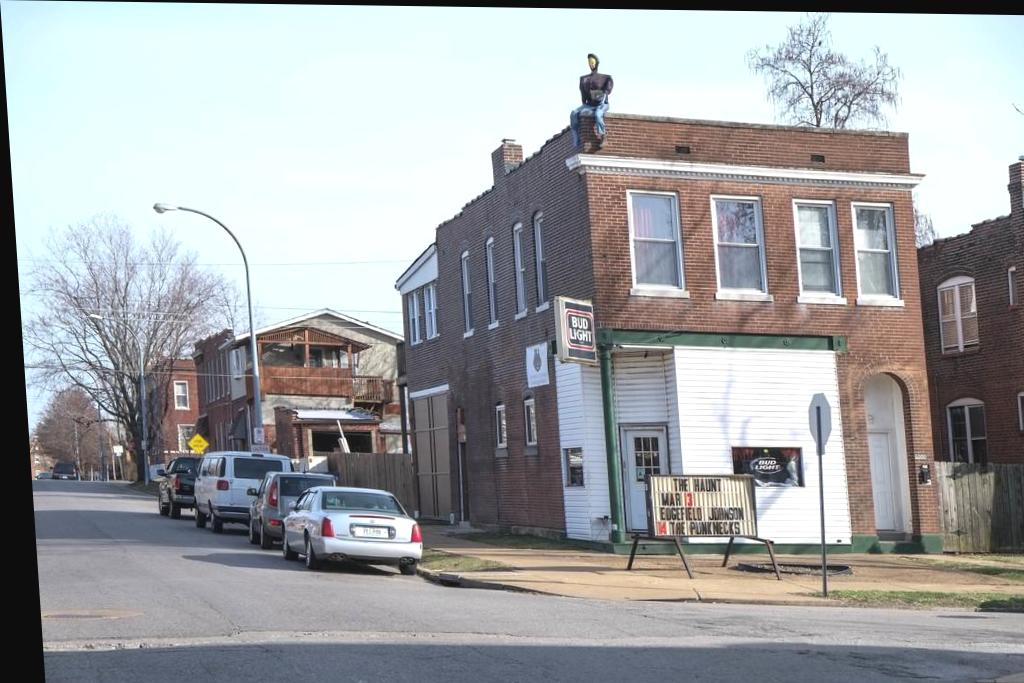License_Plate: (350, 523, 389, 541)
